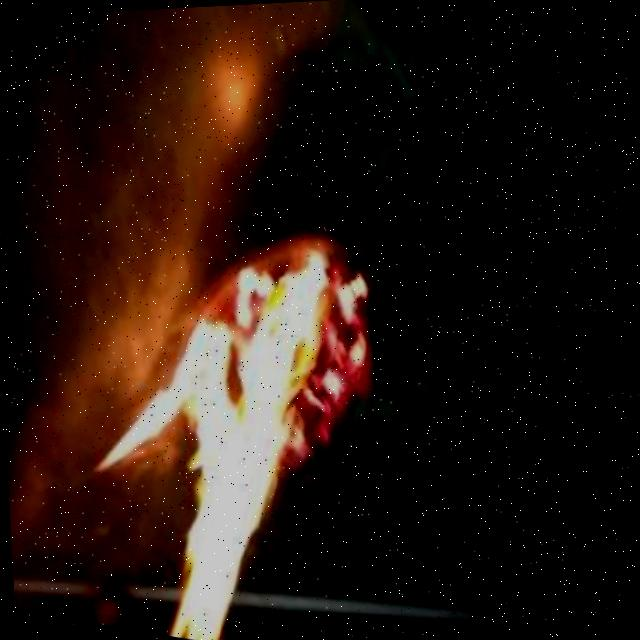fire: (130, 266, 382, 638)
